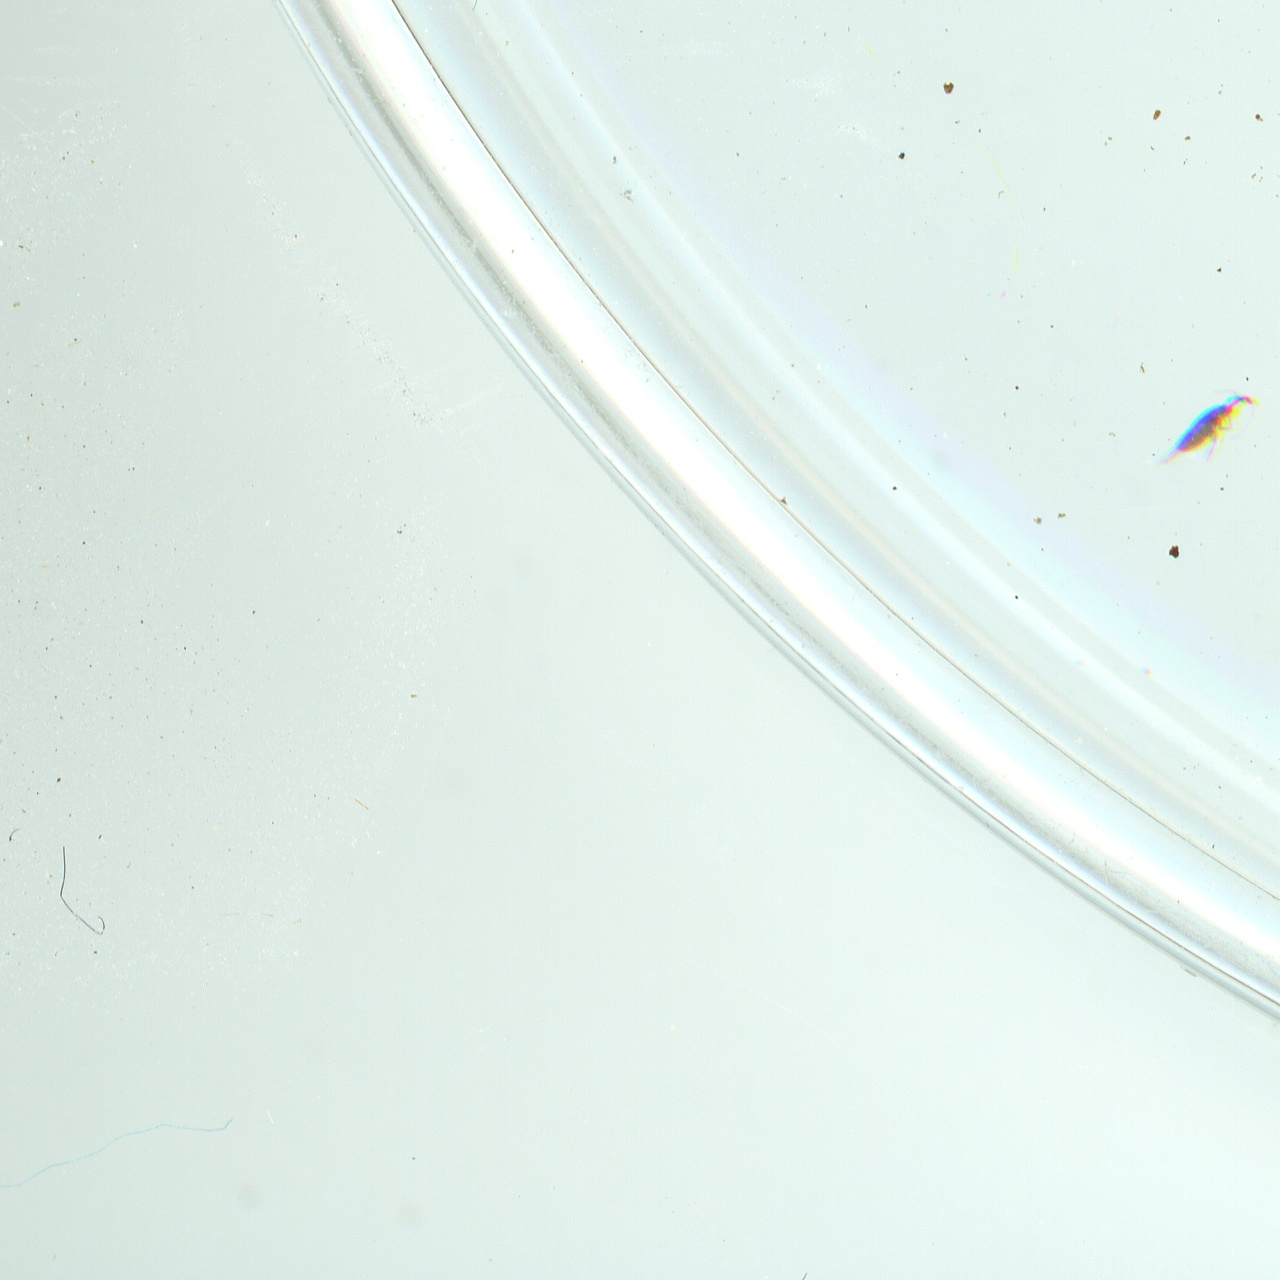arthropod: (1141, 372, 1274, 502)
